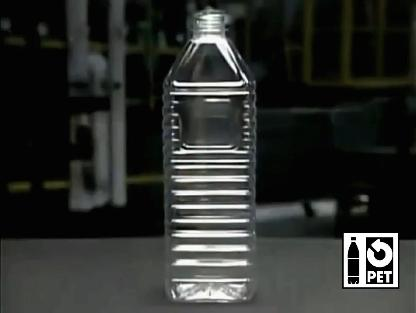Plastic Bottle: (163, 6, 257, 304)
